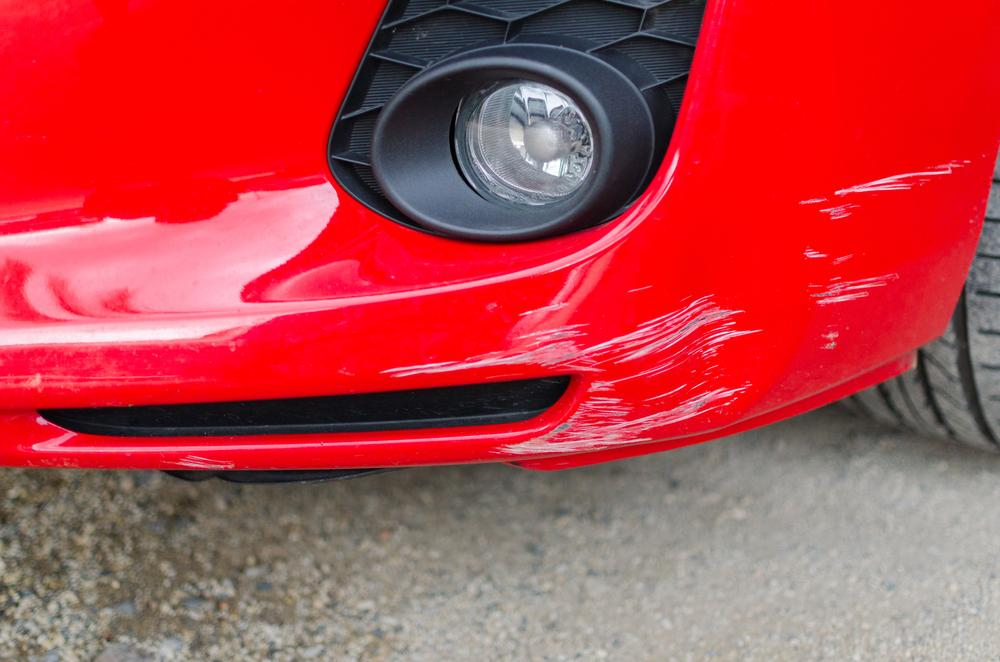scratch: (375, 283, 773, 461), (798, 150, 971, 350)
